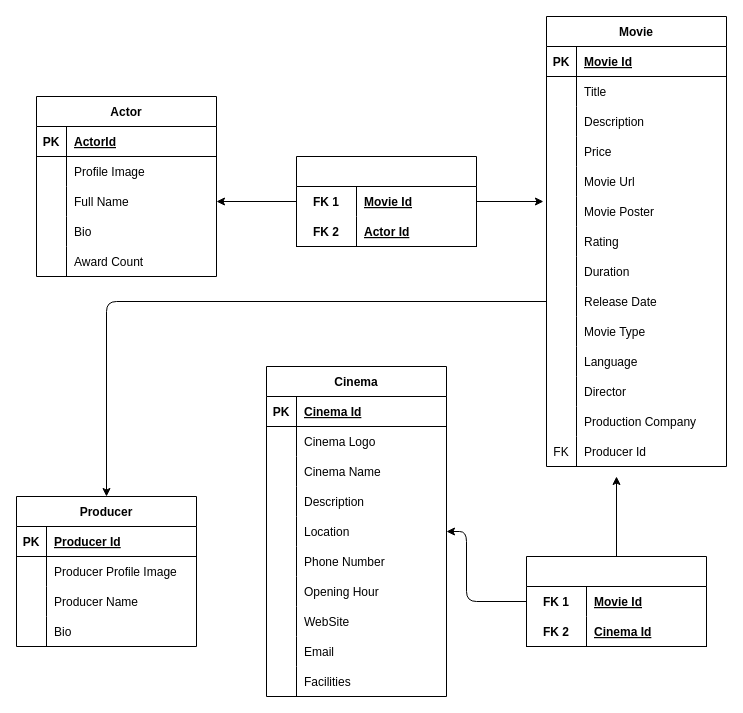
Some shapes in this 743 by 713 pixel diagram are drawn without their labels. The shapes that lost their labels are listed below. From the top down, each one's box as (x1, y1, x2, y2) in pixels, then its label:
(296, 156, 476, 246): ActorMovie
(526, 556, 706, 646): MovieCinema
